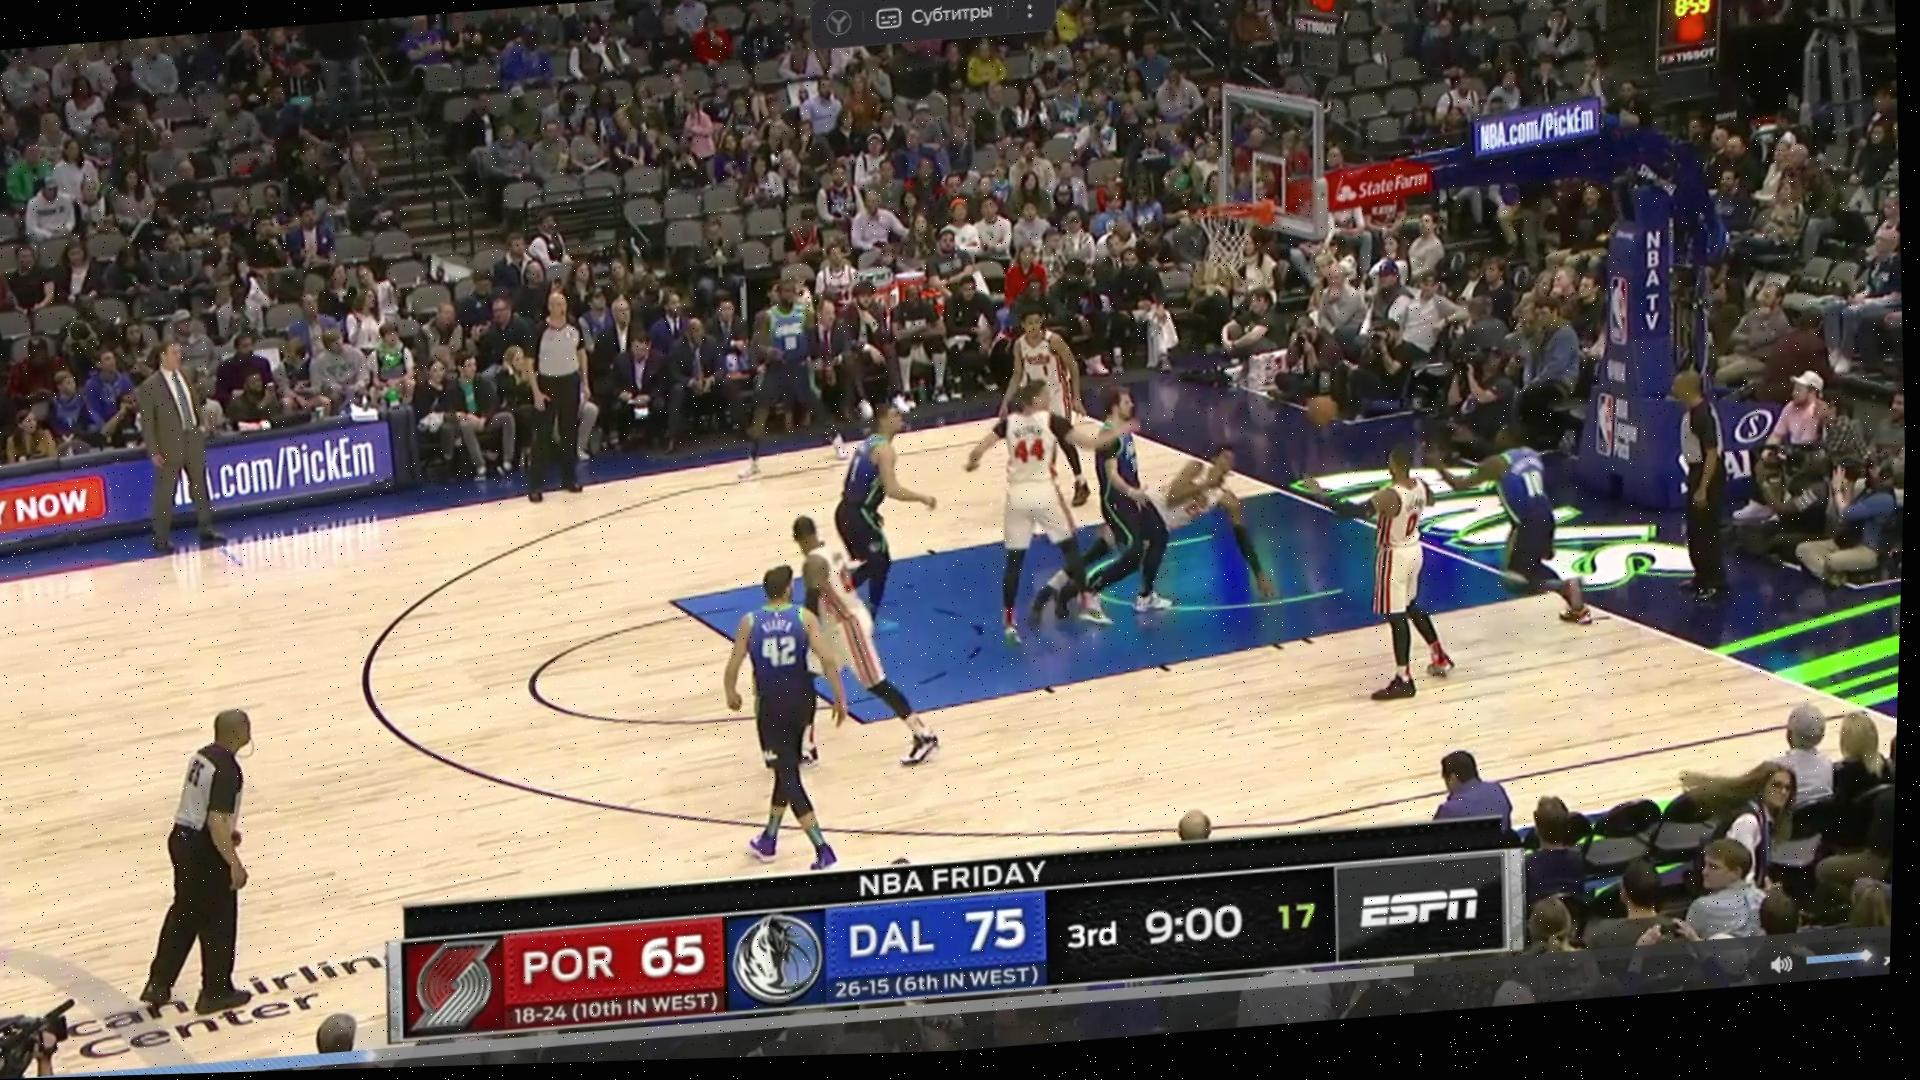foul: (1072, 363, 1298, 624)
